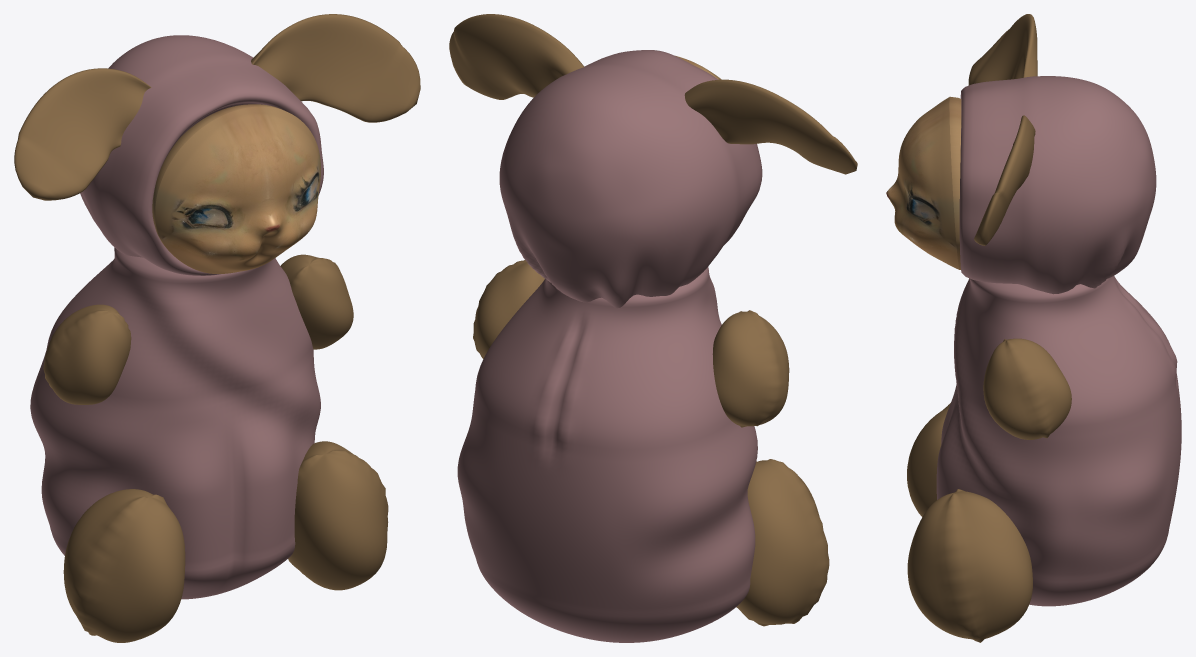
Rendered from dumb_bunny_repaired.obj.
3 views of the same model, side by side, from view 1: azimuth 30°, elevation 25°; view 2: azimuth 150°, elevation 25°; view 3: azimuth 270°, elevation 25° (orthographic). The views are drawn at different scales.
Parts seen in each view (by area): view 1: DumbBunny_Torso, DumbBunny_Face_Repaired, DumbBunny_Hood, DumbBunny_Foot_R, DumbBunny_Ear_L, DumbBunny_Ear_R, DumbBunny_Foot_L, DumbBunny_Arm_R, DumbBunny_Arm_L; view 2: DumbBunny_Torso, DumbBunny_Hood, DumbBunny_Foot_R, DumbBunny_Ear_L, DumbBunny_Ear_R, DumbBunny_Arm_R, DumbBunny_Arm_L; view 3: DumbBunny_Torso, DumbBunny_Hood, DumbBunny_Foot_L, DumbBunny_Face_Repaired, DumbBunny_Arm_L, DumbBunny_Ear_R, DumbBunny_Ear_L, DumbBunny_Foot_R.
Part boxes in pixels (bbox=[...]): DumbBunny_Torso: bbox=[30, 247, 320, 599]; DumbBunny_Face_Repaired: bbox=[152, 104, 320, 273]; DumbBunny_Hood: bbox=[80, 35, 323, 275]; DumbBunny_Foot_R: bbox=[63, 489, 185, 642]; DumbBunny_Ear_L: bbox=[251, 14, 420, 122]; DumbBunny_Ear_R: bbox=[14, 68, 151, 200]; DumbBunny_Foot_L: bbox=[288, 441, 388, 590]; DumbBunny_Arm_R: bbox=[43, 304, 131, 404]; DumbBunny_Arm_L: bbox=[280, 254, 353, 349]; DumbBunny_Torso: bbox=[457, 267, 757, 642]; DumbBunny_Hood: bbox=[499, 50, 762, 308]; DumbBunny_Foot_R: bbox=[736, 459, 829, 626]; DumbBunny_Ear_L: bbox=[449, 14, 584, 99]; DumbBunny_Ear_R: bbox=[684, 79, 857, 174]; DumbBunny_Arm_R: bbox=[712, 310, 789, 427]; DumbBunny_Arm_L: bbox=[473, 260, 544, 358]; DumbBunny_Torso: bbox=[936, 276, 1181, 606]; DumbBunny_Hood: bbox=[959, 76, 1156, 294]; DumbBunny_Foot_L: bbox=[907, 489, 1032, 642]; DumbBunny_Face_Repaired: bbox=[886, 96, 961, 269]; DumbBunny_Arm_L: bbox=[983, 338, 1071, 439]; DumbBunny_Ear_R: bbox=[968, 14, 1037, 85]; DumbBunny_Ear_L: bbox=[974, 115, 1035, 245]; DumbBunny_Foot_R: bbox=[907, 403, 950, 517].
Bounding box in the file's own units: 0.14 × 0.1848 × 0.0959.
3 materials, 1 textured.
